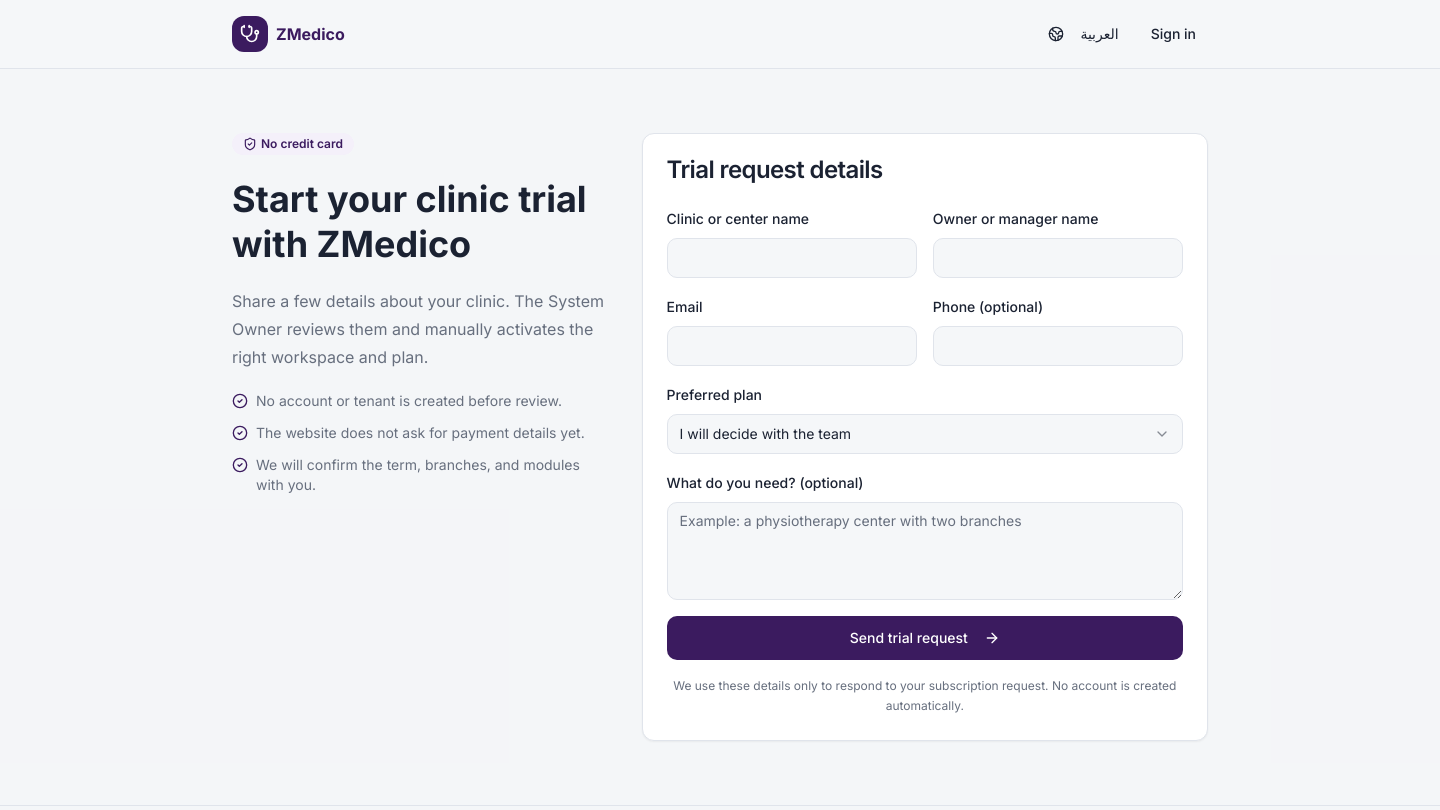
Test: the trial request tells the applicant which field it rejected (P8) › names the email format the browser accepts and the validator does not
Type "Blitz Physio" into the field labelled "Clinic or center name" at (792, 258), box [667,238,917,278]
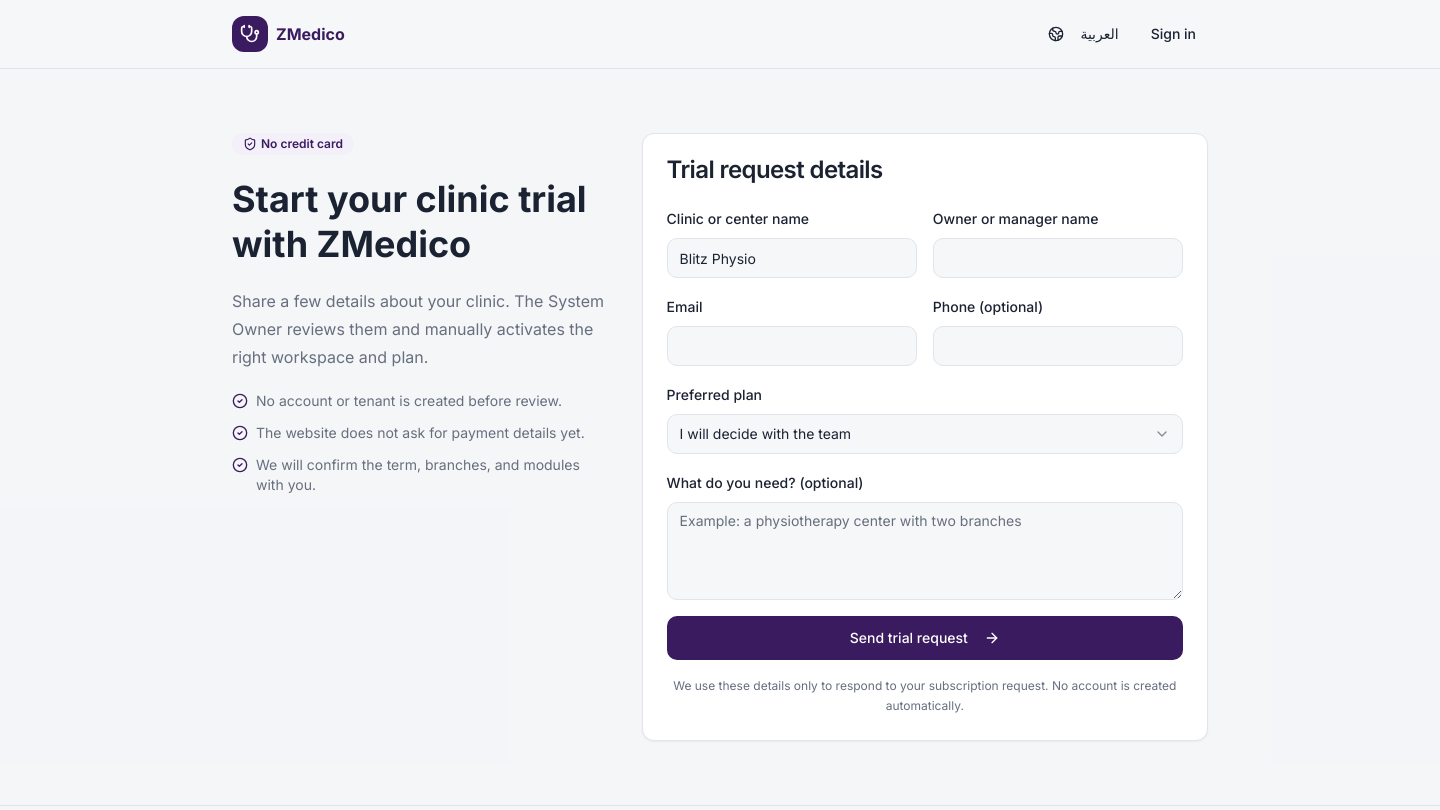
Type "Rana Salem" into the field labelled "Owner or manager name" at (1058, 258), box [933,238,1183,278]
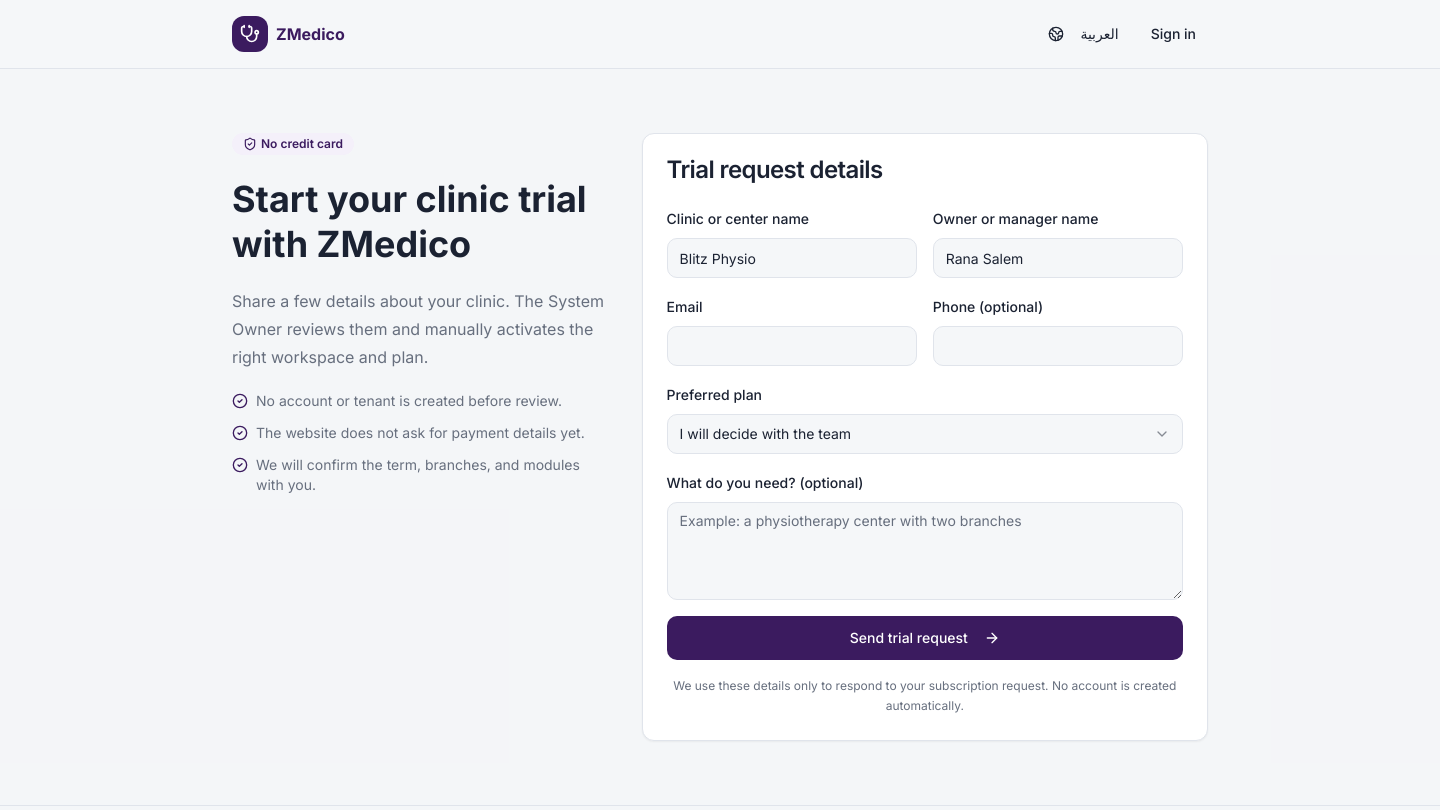
Type "rana@example" into the field labelled "Email" at (792, 346), box [667,326,917,366]
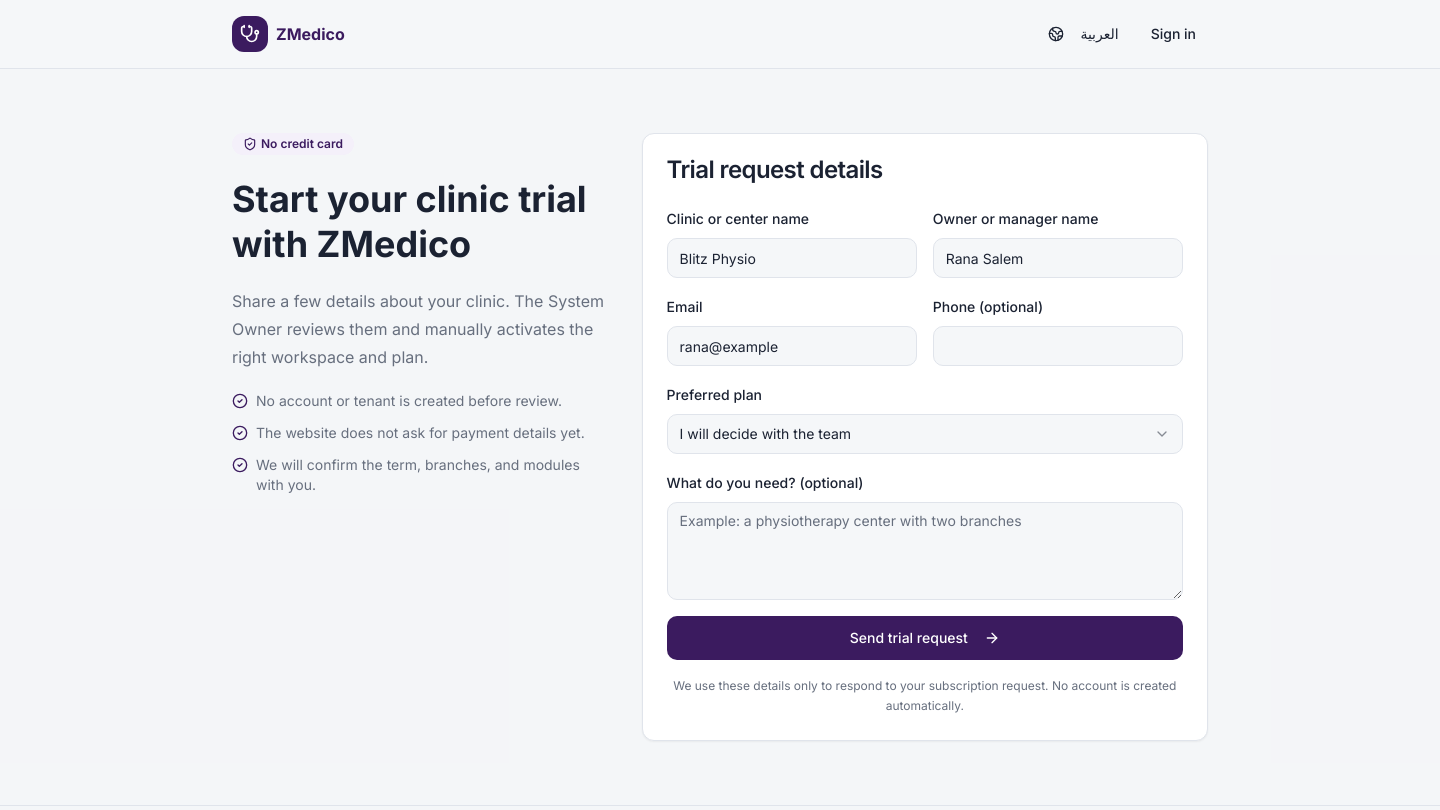
Click the button "Send trial request" at (925, 638), box [667,616,1183,660]
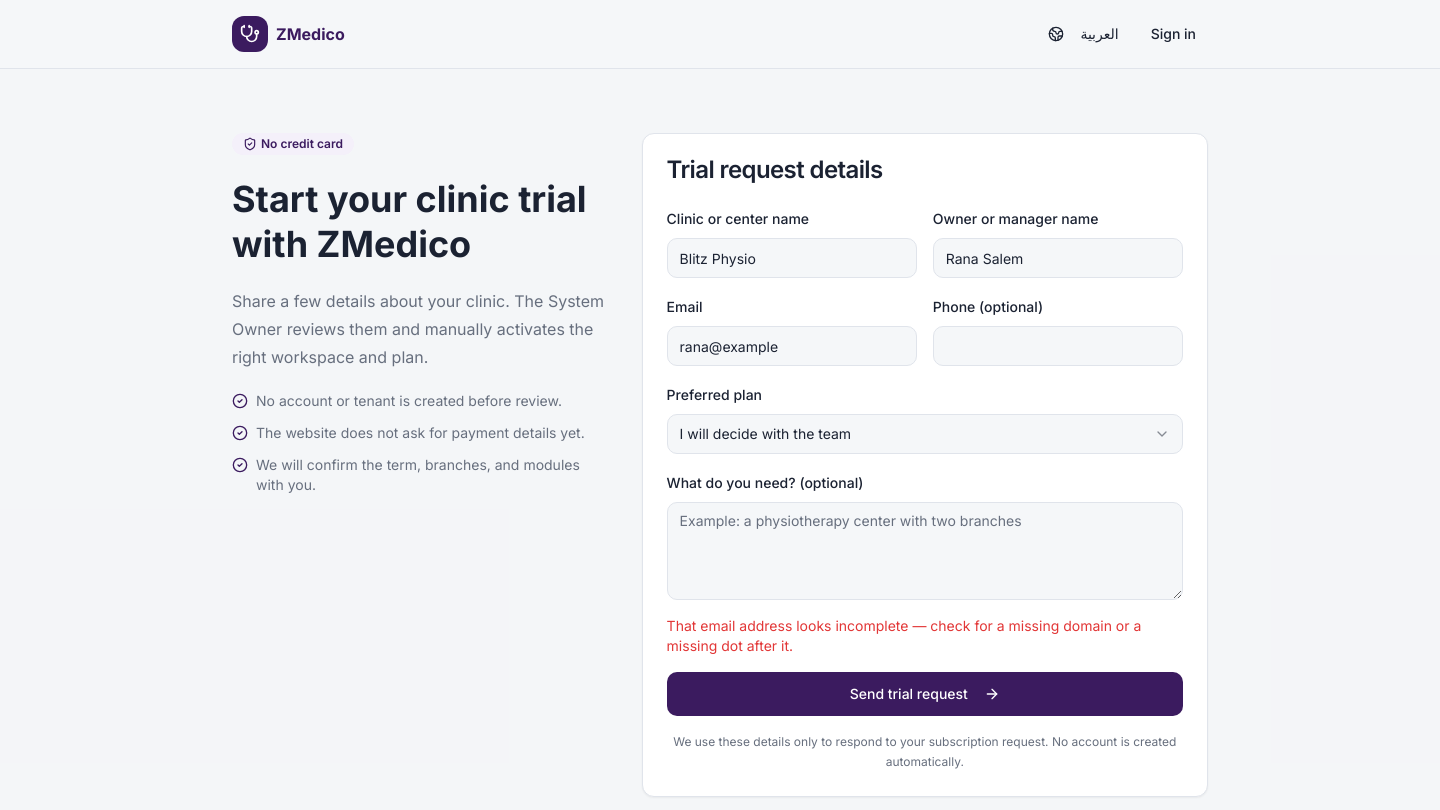
Result: the message shows "That email address looks incomplete — check for a missing domain or a missing dot after it." at [667,617,1141,654]
